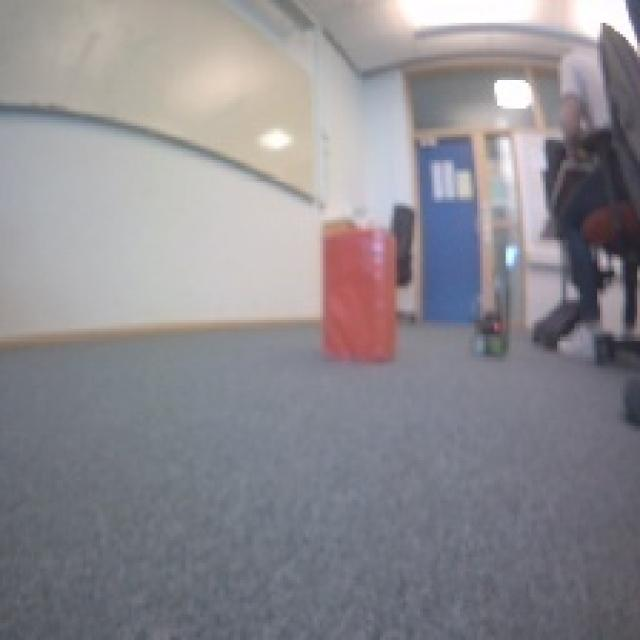robot: (470, 310, 512, 360)
target: (317, 220, 397, 363)
